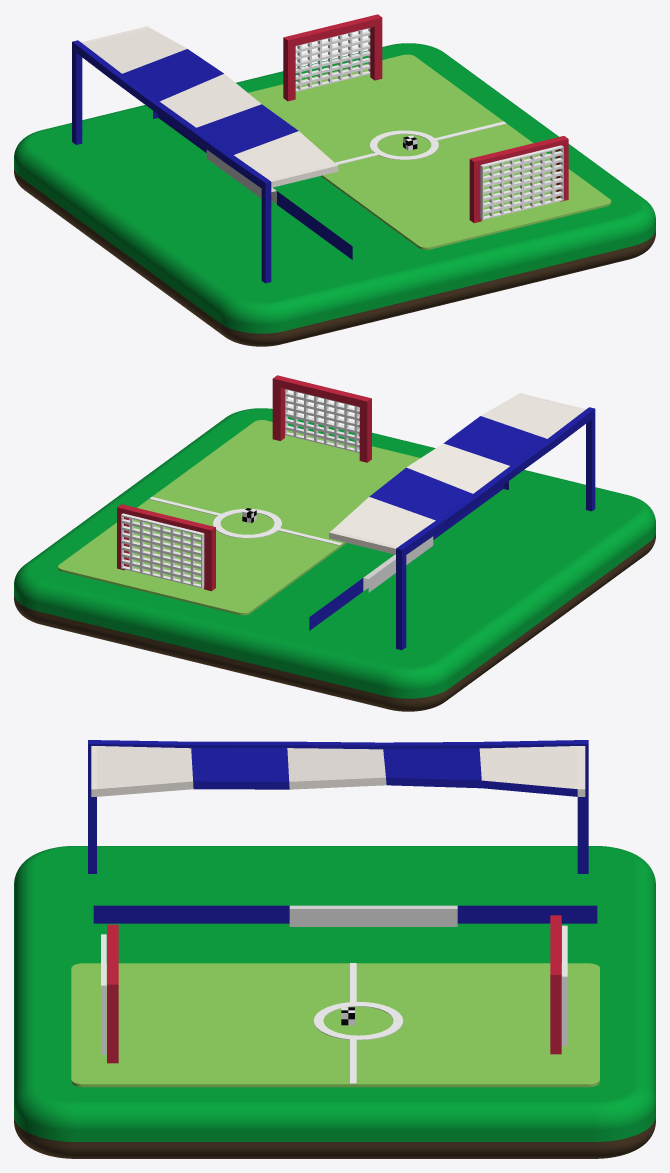
Rendered from IslandCircle.glb.
The picture shows the model from 3 angles, top to bottom: view 1: azimuth 30°, elevation 25°; view 2: azimuth 150°, elevation 25°; view 3: azimuth 270°, elevation 25°; orthographic projection. The views are drawn at different scales.
Parts seen in each view (by area): view 1: Island, Football field.001, Tribuns.001, Gates2.001, Gates.001, Shiled.001, FootballDraw.001; view 2: Island, Football field.001, Tribuns.001, Gates.001, Gates2.001, Shiled.001, FootballDraw.001; view 3: Island, Football field.001, Tribuns.001, Shiled.001, Gates.001, Gates2.001, FootballDraw.001.
Boxes of the visible parts, left/top/right/bottom form: Island: left=14, top=43, right=655, bottom=346; Football field.001: left=248, top=54, right=611, bottom=249; Tribuns.001: left=72, top=26, right=338, bottom=283; Gates2.001: left=469, top=136, right=568, bottom=223; Gates.001: left=283, top=14, right=382, bottom=101; Shiled.001: left=153, top=111, right=352, bottom=259; FootballDraw.001: left=335, top=121, right=506, bottom=164; Island: left=14, top=408, right=655, bottom=711; Football field.001: left=58, top=420, right=420, bottom=615; Tribuns.001: left=329, top=393, right=595, bottom=650; Gates.001: left=117, top=504, right=215, bottom=591; Gates2.001: left=272, top=375, right=371, bottom=462; Shiled.001: left=309, top=481, right=508, bottom=630; FootballDraw.001: left=149, top=497, right=342, bottom=545; Island: left=14, top=846, right=655, bottom=1158; Football field.001: left=71, top=963, right=599, bottom=1087; Tribuns.001: left=88, top=740, right=588, bottom=873; Shiled.001: left=93, top=905, right=597, bottom=926; Gates.001: left=550, top=915, right=567, bottom=1054; Gates2.001: left=101, top=924, right=118, bottom=1063; FootballDraw.001: left=313, top=963, right=403, bottom=1083.
Size of the model in its own units: 6 by 2.01 by 6.
